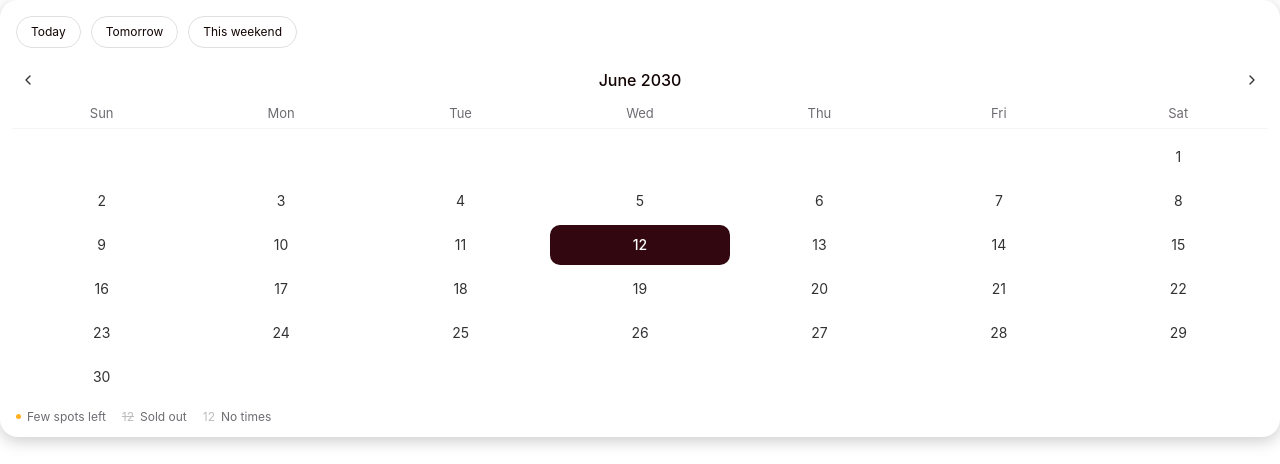
Scenario: BookingCalendarView › moves between months
Step 1. Click the button named "Next month" → {"x": 1252, "y": 80}, box [1236, 64, 1268, 96]
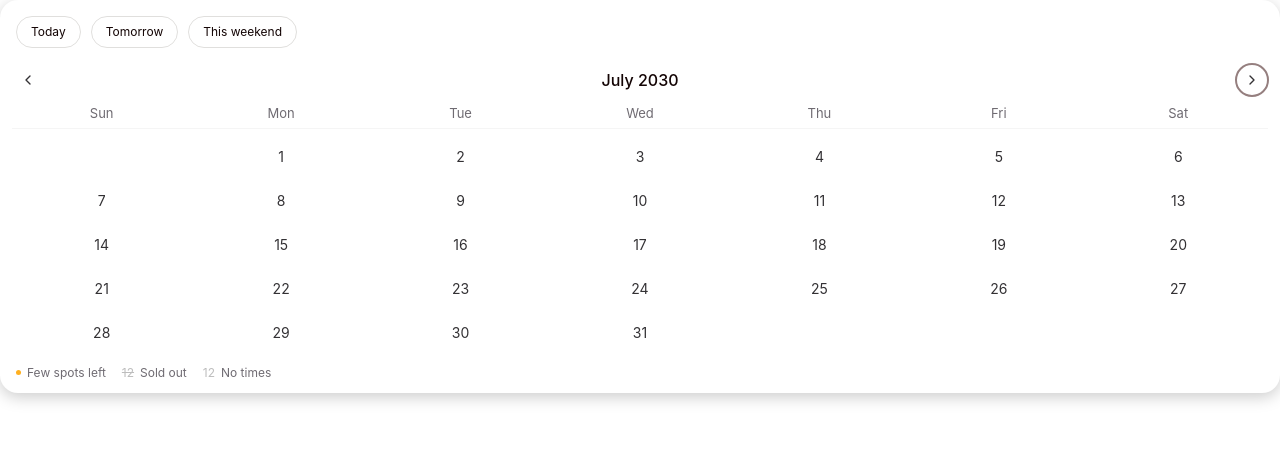
Expected: the text "July 2030" is shown, [602, 68, 678, 92]
Step 2. Click the button named "Previous month" → {"x": 28, "y": 80}, box [12, 64, 44, 96]
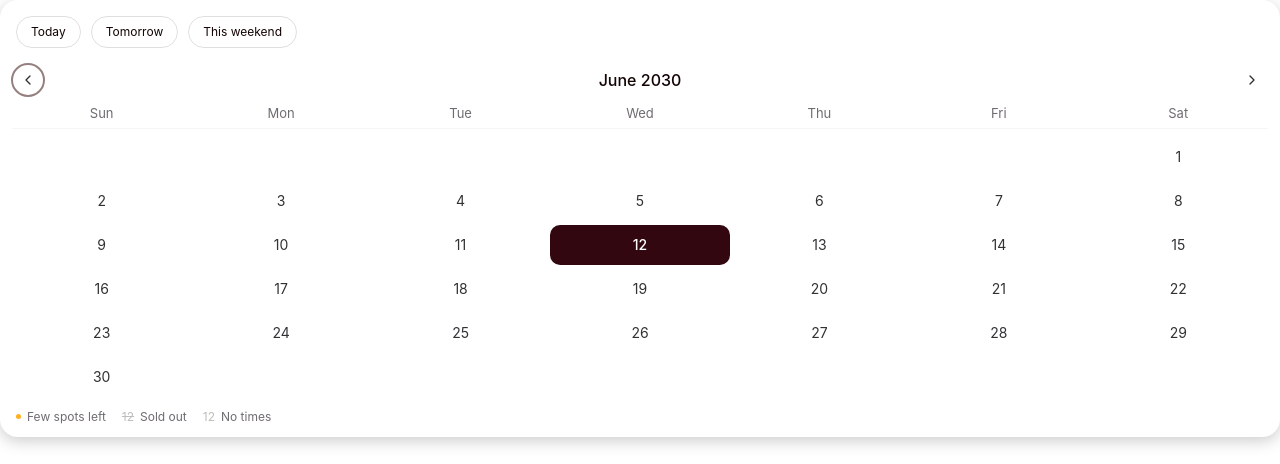
Step 3. Click the button named "Previous month" → {"x": 28, "y": 80}, box [12, 64, 44, 96]
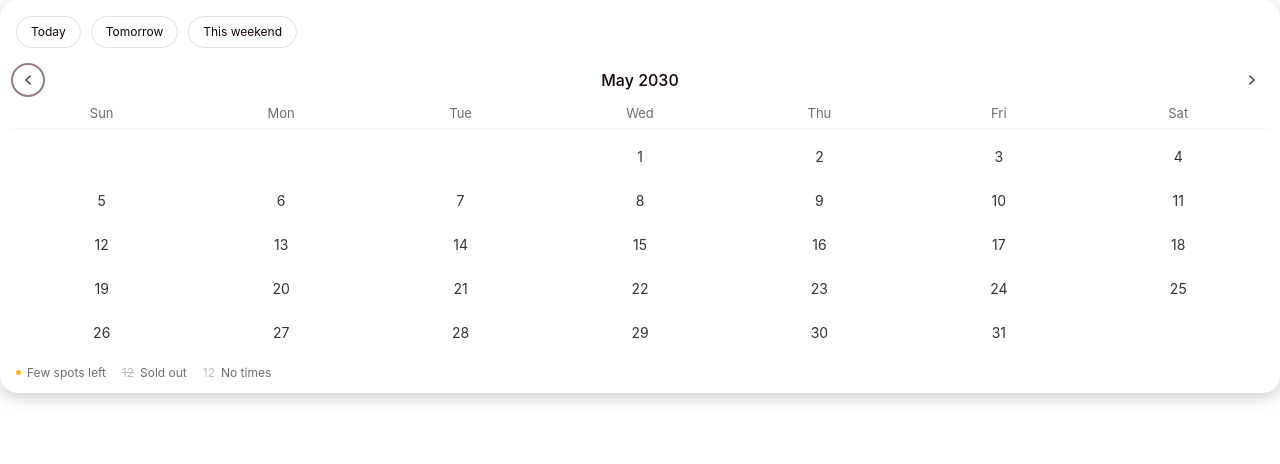
Expected: the text "May 2030" is shown, [601, 68, 679, 92]
